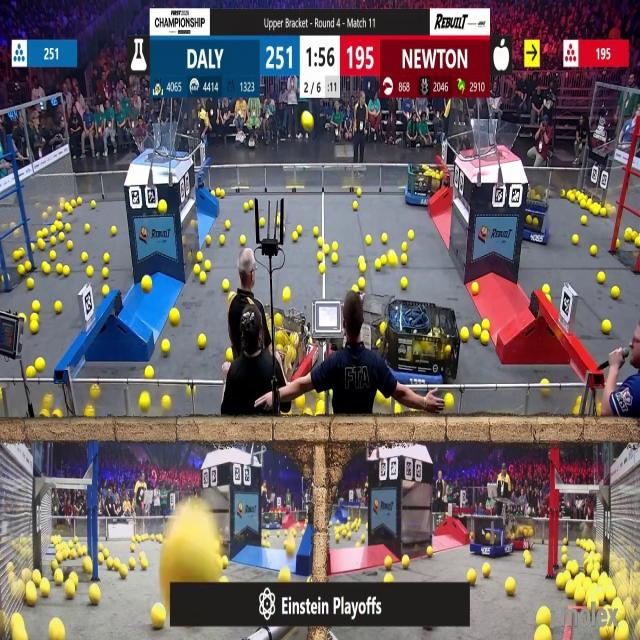ball_airborne: (302, 111, 314, 130), (160, 201, 168, 215)
ball_ground: (536, 609, 549, 627), (90, 586, 102, 605), (27, 586, 38, 606), (505, 578, 515, 598), (40, 581, 50, 598), (170, 309, 180, 326), (140, 392, 150, 409), (279, 568, 290, 583), (141, 276, 151, 292), (66, 583, 76, 599), (285, 539, 295, 555), (574, 590, 584, 605), (163, 395, 172, 411), (605, 588, 615, 602), (446, 392, 454, 408), (602, 320, 611, 334), (56, 569, 64, 584), (467, 569, 475, 584), (198, 336, 206, 350), (401, 555, 409, 569), (484, 563, 492, 577), (283, 287, 291, 301), (388, 252, 396, 266), (145, 365, 153, 378), (482, 333, 490, 346), (163, 340, 171, 353), (470, 282, 478, 295), (460, 327, 468, 340), (225, 348, 232, 362), (472, 325, 480, 337), (611, 286, 619, 298), (295, 395, 303, 407), (56, 302, 63, 315), (385, 557, 392, 570), (119, 565, 126, 578), (525, 554, 532, 567), (400, 278, 407, 290), (358, 278, 365, 290), (33, 302, 40, 314), (31, 321, 38, 333), (28, 278, 35, 290), (36, 359, 42, 373), (385, 573, 393, 583), (87, 408, 95, 418), (42, 264, 50, 274), (28, 366, 36, 376), (591, 205, 599, 215), (112, 559, 120, 569), (102, 285, 109, 296), (483, 319, 490, 330), (200, 273, 207, 284), (130, 558, 137, 569), (222, 280, 228, 292), (221, 556, 227, 568), (395, 404, 401, 416), (26, 262, 32, 274), (102, 269, 109, 279), (63, 267, 70, 277), (88, 268, 95, 278), (592, 571, 599, 581), (205, 262, 212, 272), (48, 250, 55, 260), (400, 253, 406, 264), (591, 245, 597, 256), (598, 273, 604, 284), (427, 545, 433, 556), (17, 265, 23, 276), (220, 575, 228, 583), (32, 313, 39, 322), (364, 236, 371, 245), (83, 223, 90, 232), (331, 252, 337, 262), (80, 252, 86, 262), (57, 266, 63, 276), (108, 559, 114, 569), (542, 284, 548, 294), (382, 234, 388, 244), (54, 411, 62, 418), (57, 222, 64, 230), (104, 252, 109, 263), (318, 265, 324, 274), (359, 264, 365, 273), (38, 241, 44, 250), (68, 241, 74, 250), (192, 266, 198, 275), (248, 201, 254, 210), (259, 217, 264, 227), (376, 262, 381, 272), (50, 237, 56, 245), (65, 223, 71, 231), (60, 234, 66, 242), (98, 542, 104, 550), (224, 219, 229, 228), (92, 201, 97, 210), (241, 236, 246, 245), (401, 242, 406, 251), (314, 226, 319, 235), (296, 224, 301, 233), (99, 554, 104, 563), (51, 560, 56, 569), (358, 255, 364, 262), (410, 231, 414, 241), (353, 202, 358, 210), (111, 226, 116, 234), (292, 234, 297, 242), (18, 313, 24, 319), (220, 237, 224, 246), (131, 543, 136, 550), (561, 189, 566, 196), (617, 241, 621, 249), (361, 535, 365, 542), (356, 188, 360, 195), (564, 538, 568, 544)
goal: (464, 122, 520, 159), (132, 132, 189, 159)
robot_blue: (388, 299, 462, 395), (404, 163, 447, 207), (520, 184, 548, 246), (471, 516, 512, 557), (510, 519, 535, 552)
robot_red: (272, 310, 314, 382)
